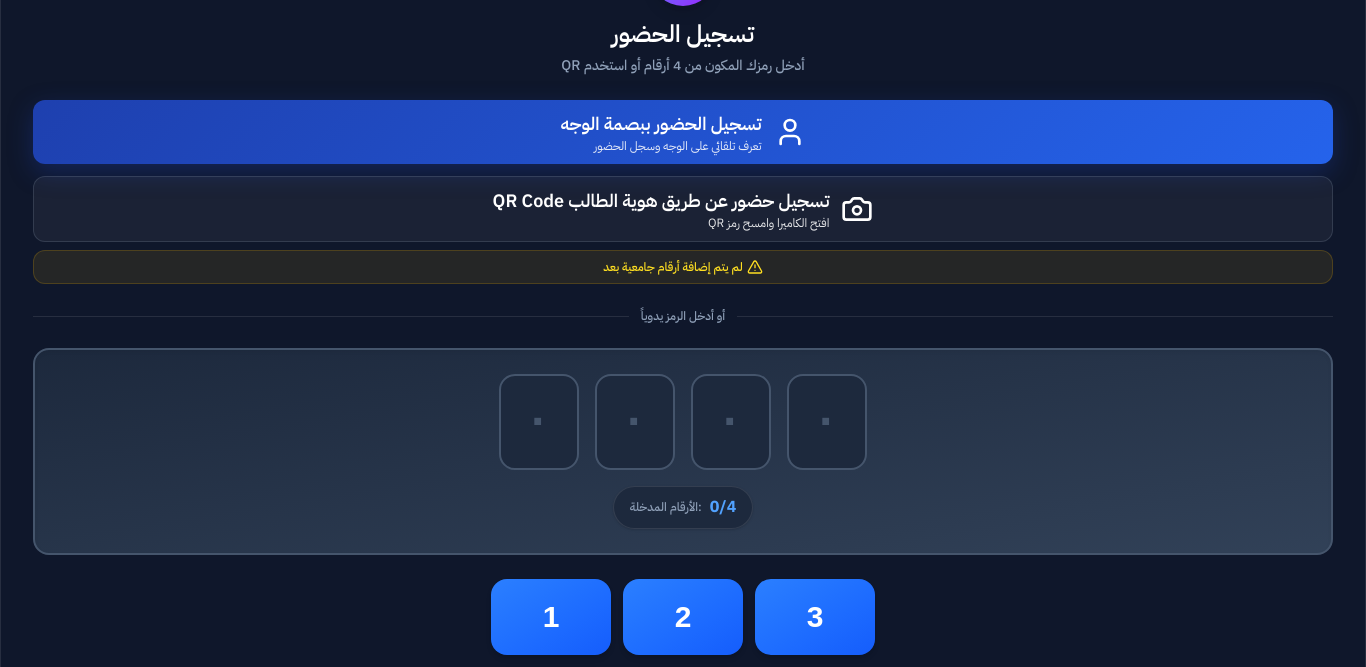
Test: AttendanceLogin › clear button resets code and message
Click the button "1" at x=551, y=617, box [491,579,611,655]
(page scrolled)
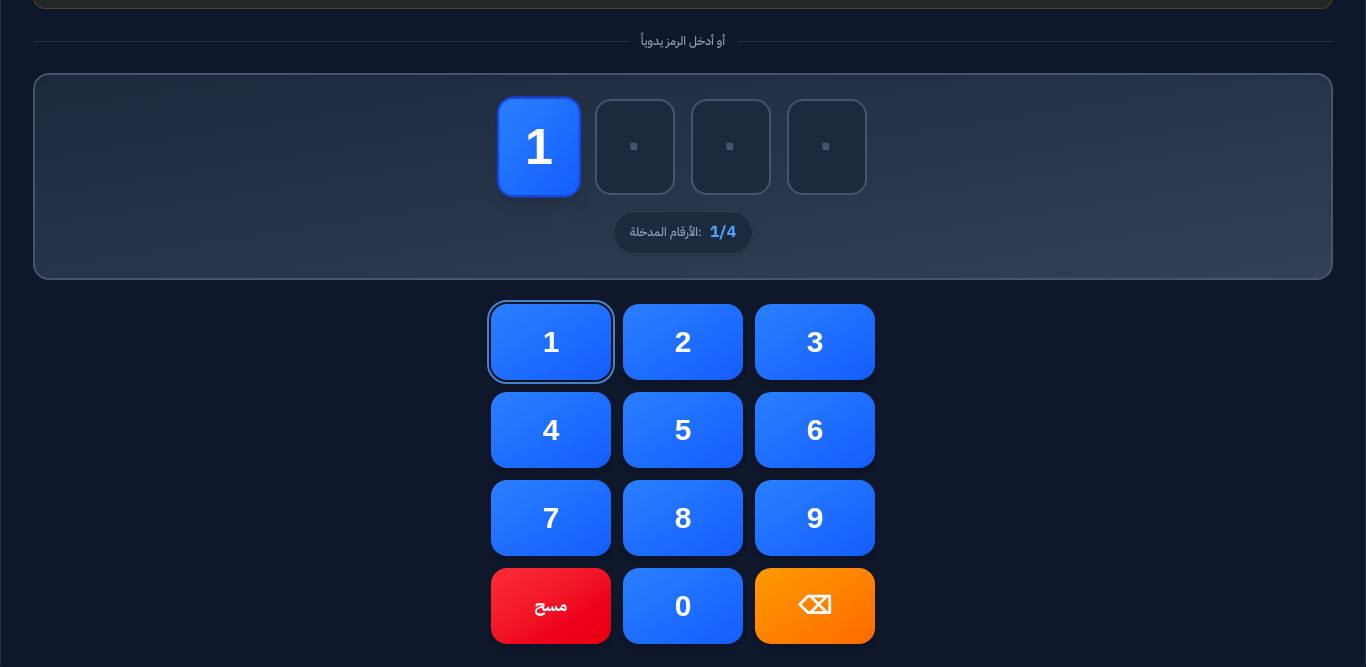
Expected: the text "1/4" is shown, [710,218,736,247]
Click the button "مسح" at x=551, y=606, box [491,568,611,644]
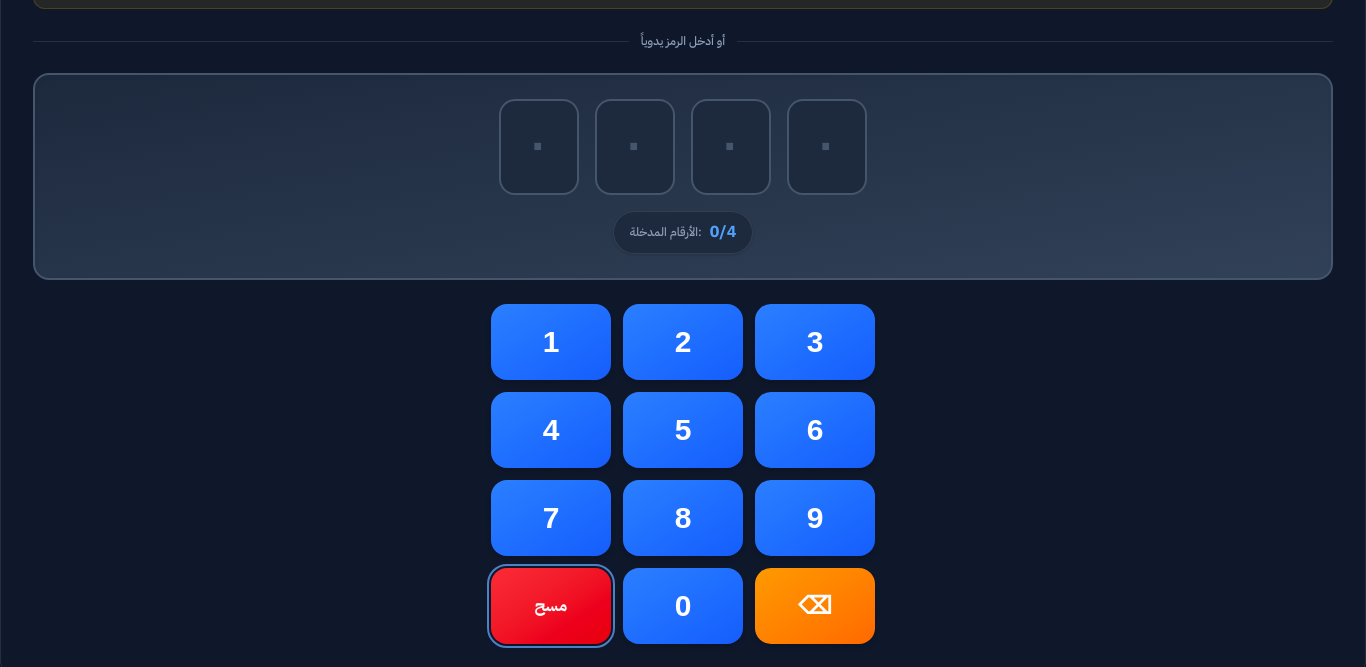
Expected: the text "0/4" is shown, [710,218,736,247]
